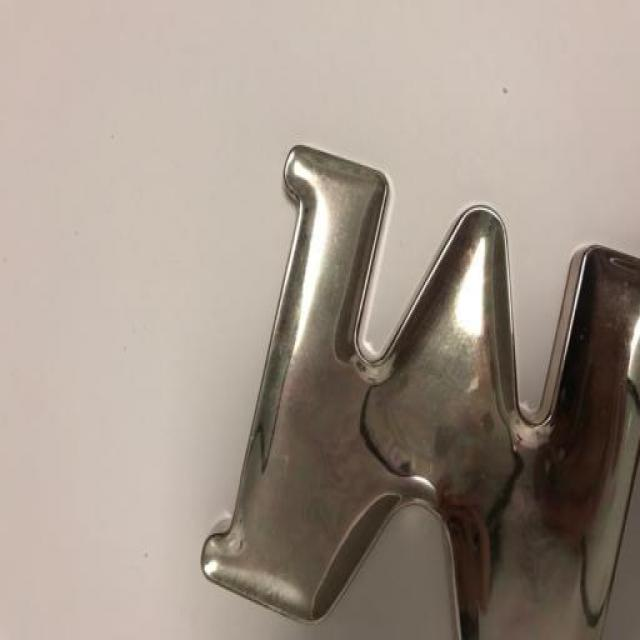others: (177, 121, 640, 640)
